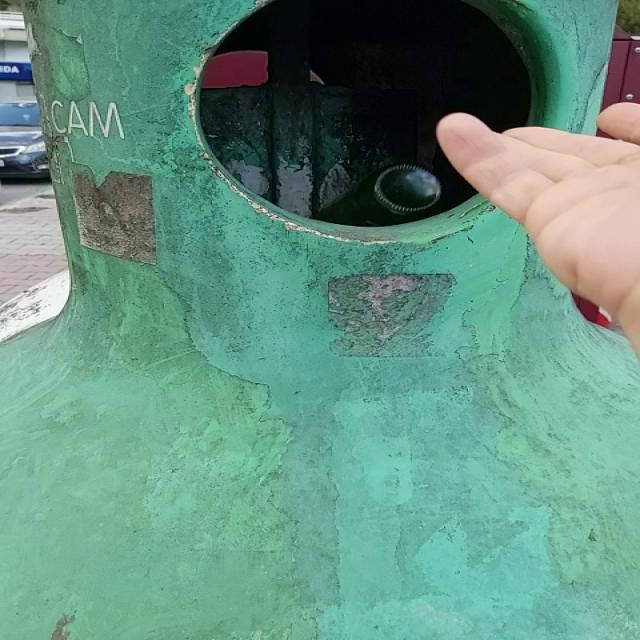glass: (316, 164, 443, 225)
